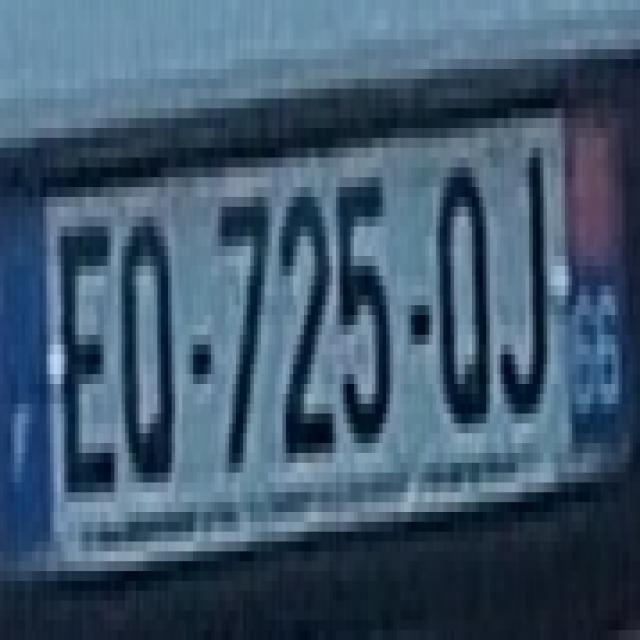Autre: (1, 107, 630, 558)
